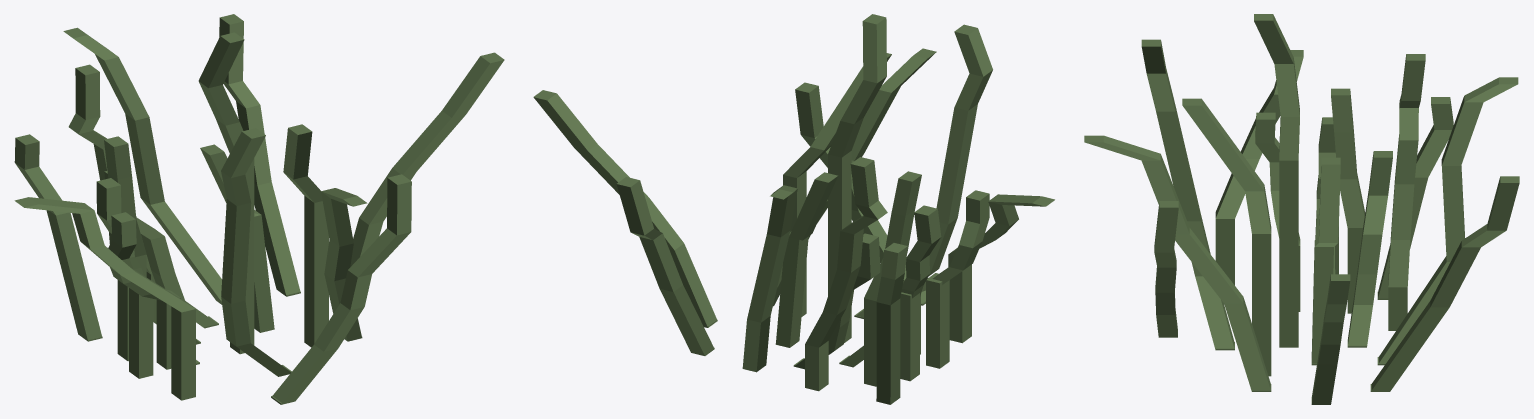
Rendered from Grass model.fbx.
The picture shows the model from 3 angles, left to right: view 1: azimuth 30°, elevation 25°; view 2: azimuth 150°, elevation 25°; view 3: azimuth 270°, elevation 25°; orthographic projection. The views are drawn at different scales.
Visible parts, largest first — view 1: polySurface1678, polySurface1687, polySurface1679, polySurface1682, polySurface1675, polySurface1690, polySurface1685, polySurface1689, polySurface1672, polySurface1676, polySurface1683, polySurface1684 (+6 smaller); view 2: polySurface1672, polySurface1674, polySurface1679, polySurface1685, polySurface1675, polySurface1687, polySurface1684, polySurface1689, polySurface1682, polySurface1680, polySurface1690, polySurface1677 (+6 smaller); view 3: polySurface1672, polySurface1676, polySurface1679, polySurface1690, polySurface1674, polySurface1687, polySurface1675, polySurface1673, polySurface1680, polySurface1684, polySurface1682, polySurface1678 (+4 smaller).
Part boxes in pixels (box(x1,y1,x2,y2)): polySurface1678: box(271, 174, 411, 404); polySurface1687: box(63, 27, 221, 304); polySurface1679: box(221, 128, 291, 376); polySurface1682: box(14, 197, 195, 400); polySurface1675: box(219, 14, 300, 296); polySurface1690: box(283, 124, 328, 347); polySurface1685: box(350, 52, 504, 266); polySurface1689: box(14, 134, 102, 341); polySurface1672: box(198, 32, 254, 354); polySurface1676: box(321, 188, 367, 341); polySurface1683: box(108, 212, 181, 369); polySurface1684: box(200, 144, 274, 332); polySurface1672: box(828, 14, 886, 342); polySurface1674: box(805, 157, 887, 391); polySurface1679: box(854, 24, 992, 318); polySurface1685: box(533, 90, 717, 327); polySurface1675: box(616, 177, 714, 355); polySurface1687: box(742, 185, 797, 372); polySurface1684: box(775, 172, 837, 347); polySurface1689: box(876, 243, 907, 404); polySurface1682: box(948, 194, 1054, 343); polySurface1680: box(864, 171, 921, 386); polySurface1690: box(783, 53, 891, 316); polySurface1677: box(839, 205, 941, 367); polySurface1672: box(1254, 14, 1299, 347); polySurface1676: box(1084, 135, 1271, 391); polySurface1679: box(1141, 39, 1234, 350); polySurface1690: box(1182, 98, 1271, 376); polySurface1674: box(1388, 54, 1425, 330); polySurface1687: box(1377, 77, 1518, 365); polySurface1675: box(1370, 176, 1519, 391); polySurface1673: box(1347, 151, 1392, 347); polySurface1680: box(1331, 88, 1365, 313); polySurface1684: box(1311, 157, 1340, 365); polySurface1682: box(1215, 50, 1303, 304); polySurface1678: box(1154, 201, 1178, 337).
Size of the model in its own units: 0.6349 by 0.3924 by 0.4898.
